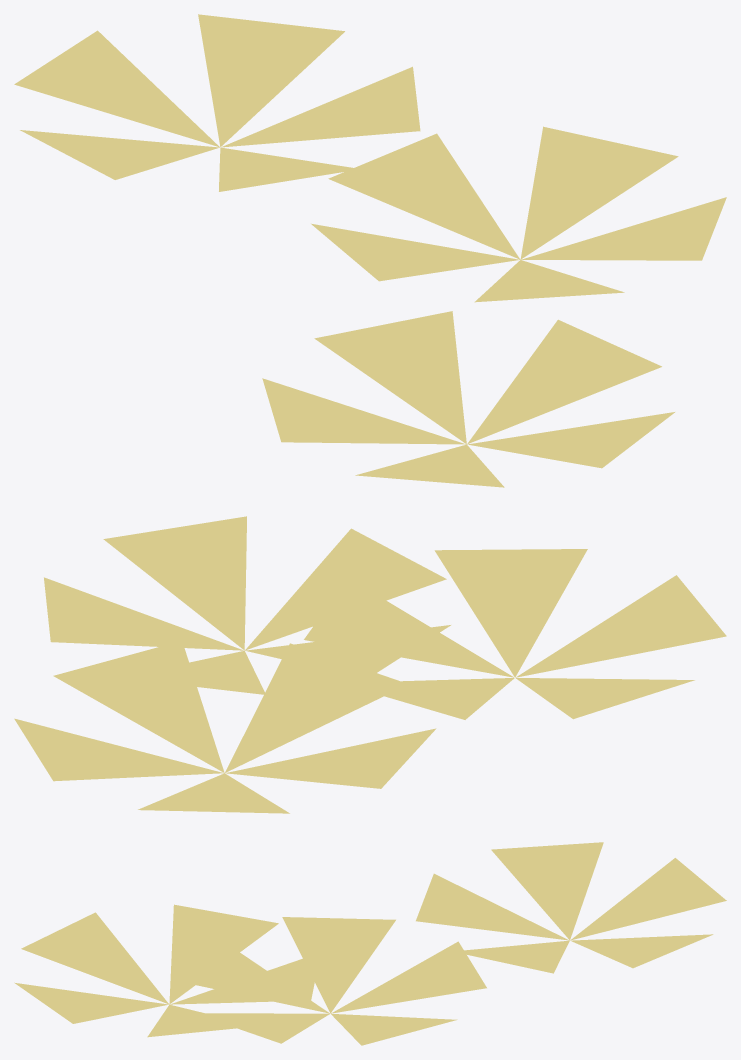
3 views of the same model, one above another, from view 1: azimuth 30°, elevation 25°; view 2: azimuth 150°, elevation 25°; view 3: azimuth 270°, elevation 25° (orthographic). The views are drawn at different scales.
Parts seen in each view (by area): view 1: SC_PlateauFlowerYellow; view 2: SC_PlateauFlowerYellow; view 3: SC_PlateauFlowerYellow.
Part boxes in pixels (<box>): SC_PlateauFlowerYellow: <box>14,14,726,487</box>; SC_PlateauFlowerYellow: <box>14,516,726,813</box>; SC_PlateauFlowerYellow: <box>14,842,726,1045</box>.
Size of the model in its own units: 0.2765 by 0.0709 by 0.4363.
